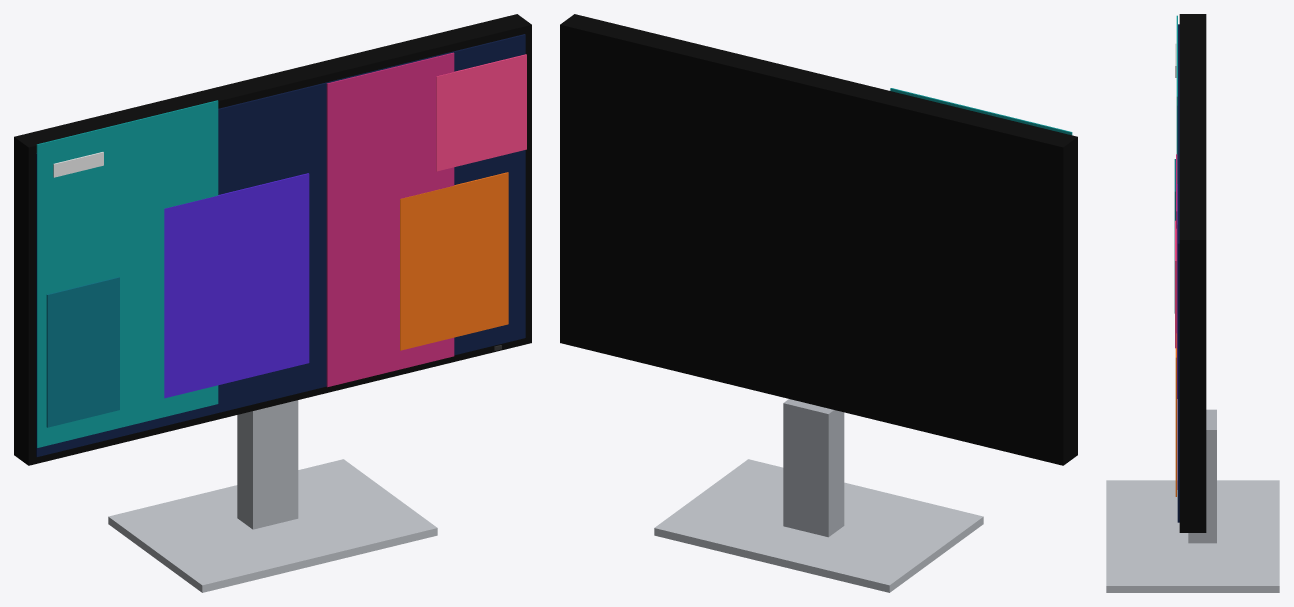
File: 48-monitor-benq.glb
3 renders of one model, left to right at view 1: azimuth 30°, elevation 25°; view 2: azimuth 150°, elevation 25°; view 3: azimuth 270°, elevation 25°, orthographic. The views are drawn at different scales.
Bounding box in the file's own units: 0.556 × 0.476 × 0.18.
